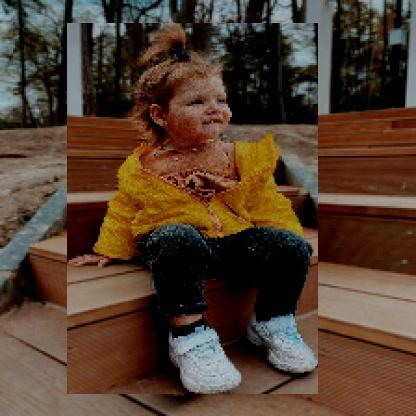child: (68, 24, 320, 396)
